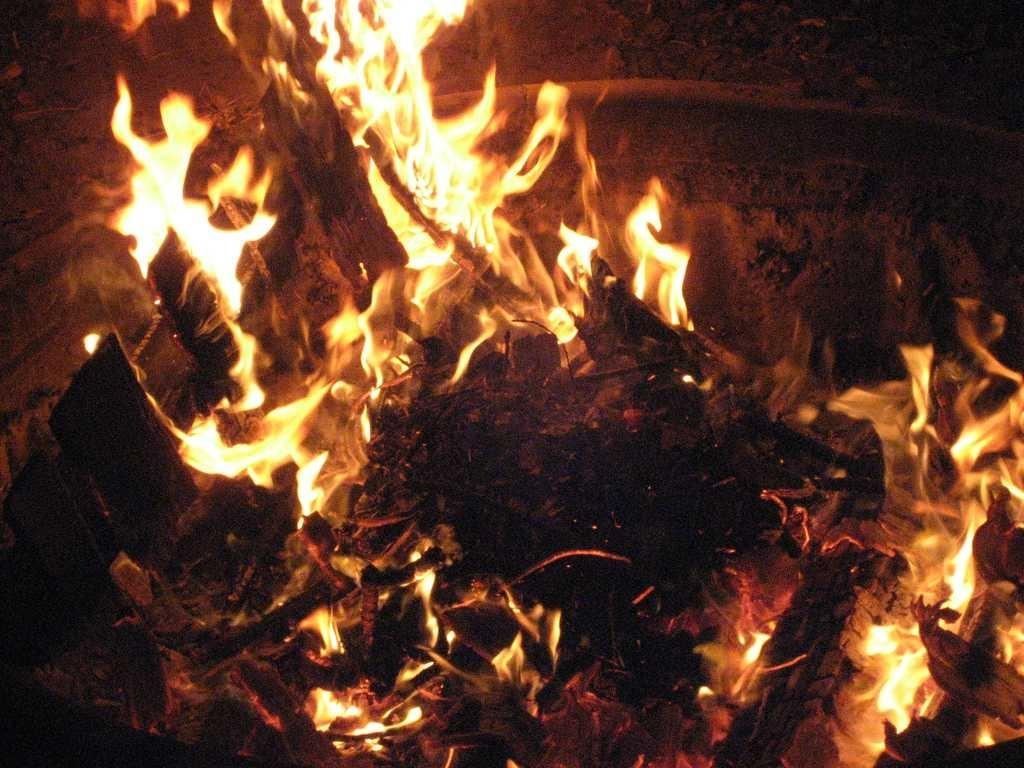fire: (412, 122, 470, 214), (138, 158, 182, 244), (200, 216, 244, 288), (208, 436, 238, 480)
